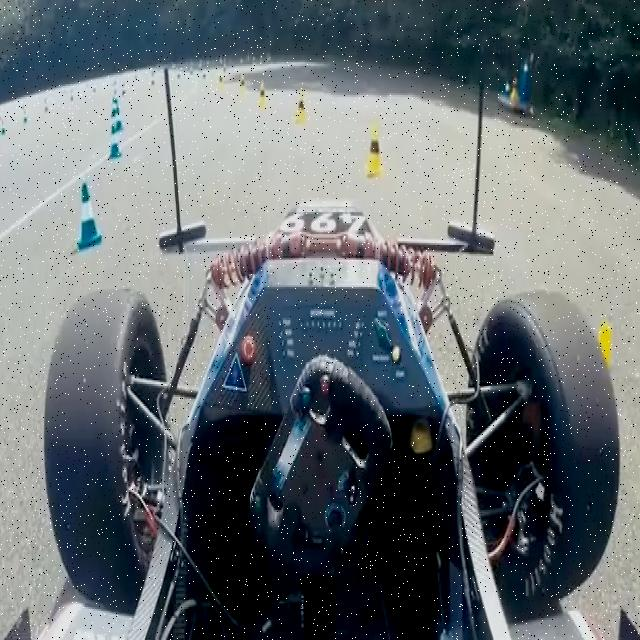blue_cone: (76, 182, 100, 250), (108, 125, 122, 161), (108, 112, 120, 144), (111, 102, 123, 130), (114, 94, 122, 115), (0, 121, 6, 137), (22, 109, 28, 125), (44, 99, 50, 114)
yellow_cone: (564, 299, 620, 556), (364, 124, 384, 178), (295, 90, 305, 122), (238, 73, 248, 99), (258, 82, 268, 106), (20, 101, 26, 118), (218, 77, 224, 93), (0, 114, 3, 128)
